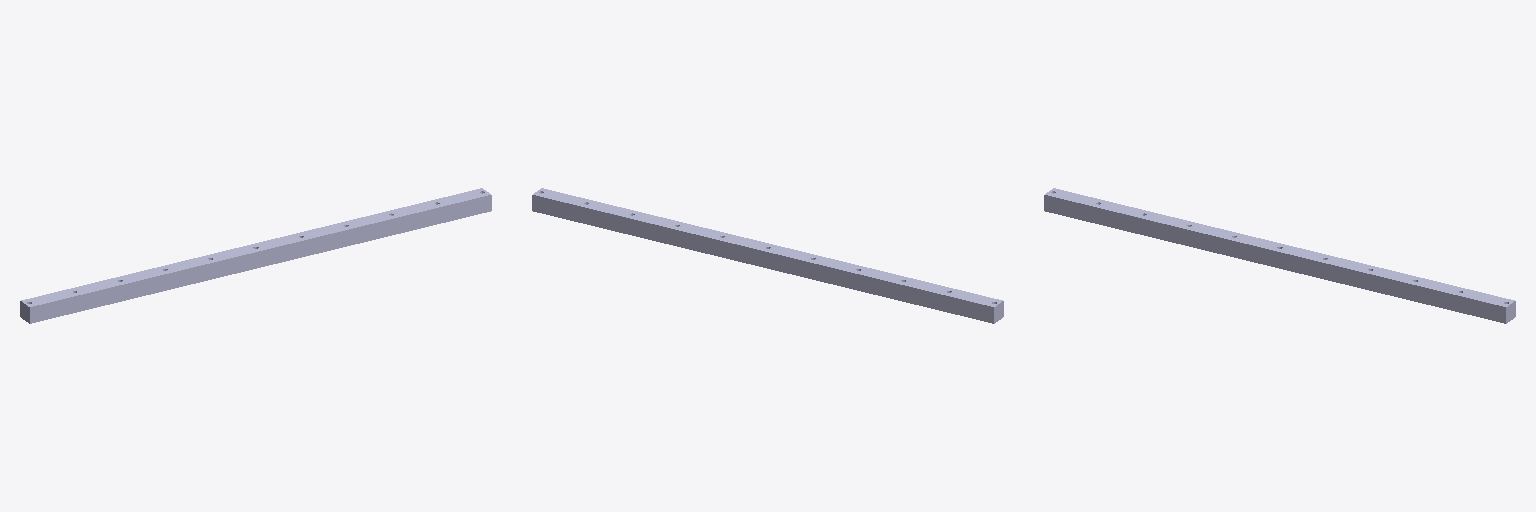
URDF robot description (Assem1):
<?xml version="1.0" encoding="utf-8"?>
<robot name="Assem1" xmlns:ignition="http://gazebosim.org/schema">

  <material name="snake_grey">
    <color rgba="0.792156862745098 0.8 0.9 1" />
  </material>

  <!-- link and joint definitions -->

  <link name="link_1">
    <inertial>
      <origin xyz="-0.05 0 0" rpy="0 0 0" />
      <mass value="0.141502212856218" />
      <inertia
        ixx="2.94169063927569E-05" ixy="0" ixz="0"
        iyy="0.000177066188533302" iyz="0"
        izz="0.000177593059801247" />
    </inertial>
    <visual>
      <origin xyz="0 0 0" rpy="1.5707963 0 0" />
      <geometry>
        <mesh filename="package://assem1_description/meshes/link_1.stl" />
      </geometry>
      <material name="snake_grey" />
    </visual>
    <collision>
      <origin xyz="0 0 0" rpy="1.5707963 0 0" />
      <geometry>
        <mesh filename="package://assem1_description/meshes/link_1.stl" />
      </geometry>
    </collision>
  </link>

  <joint name="joint_12" type="continuous">
    <origin xyz="-0.1 0 0" rpy="0 0 0" />
    <parent link="link_1" />
    <child link="link_2" />
    <axis xyz="0 0 1" />
  </joint>

  <link name="link_2">
    <inertial>
      <origin xyz="-0.05 0 0" rpy="0 0 0" />
      <mass value="0.283004425712436" />
      <inertia
        ixx="5.88338127855139E-05" ixy="0" ixz="0"
        iyy="0.000354132377066603" iyz="0"
        izz="0.000355186119602495" />
    </inertial>
    <visual>
      <origin xyz="0 0 0" rpy="1.5707963 0 0" />
      <geometry>
        <mesh filename="package://assem1_description/meshes/link_1.stl" />
      </geometry>
      <material name="snake_grey" />
    </visual>
    <collision>
      <origin xyz="0 0 0" rpy="1.5707963 0 0" />
      <geometry>
        <mesh filename="package://assem1_description/meshes/link_1.stl" />
      </geometry>
    </collision>
  </link>

  <joint name="joint_23" type="continuous">
    <origin xyz="-0.1 0 0" rpy="0 0 0" />
    <parent link="link_2" />
    <child link="link_3" />
    <axis xyz="0 0 1" />
  </joint>

  <link name="link_3">
    <inertial>
      <origin xyz="-0.05 0 0" rpy="0 0 0" />
      <mass value="0.283004425712436" />
      <inertia
        ixx="5.88338127855139E-05" ixy="0" ixz="0"
        iyy="0.000354132377066603" iyz="0"
        izz="0.000355186119602495" />
    </inertial>
    <visual>
      <origin xyz="0 0 0" rpy="1.5707963 0 0" />
      <geometry>
        <mesh filename="package://assem1_description/meshes/link_1.stl" />
      </geometry>
      <material name="snake_grey" />
    </visual>
    <collision>
      <origin xyz="0 0 0" rpy="1.5707963 0 0" />
      <geometry>
        <mesh filename="package://assem1_description/meshes/link_1.stl" />
      </geometry>
    </collision>
  </link>

  <joint name="joint_34" type="continuous">
    <origin xyz="-0.1 0 0" rpy="0 0 0" />
    <parent link="link_3" />
    <child link="link_4" />
    <axis xyz="0 0 1" />
  </joint>

  <link name="link_4">
    <inertial>
      <origin xyz="-0.05 0 0" rpy="0 0 0" />
      <mass value="0.283004425712436" />
      <inertia
        ixx="5.88338127855139E-05" ixy="0" ixz="0"
        iyy="0.000354132377066603" iyz="0"
        izz="0.000355186119602495" />
    </inertial>
    <visual>
      <origin xyz="0 0 0" rpy="1.5707963 0 0" />
      <geometry>
        <mesh filename="package://assem1_description/meshes/link_1.stl" />
      </geometry>
      <material name="snake_grey" />
    </visual>
    <collision>
      <origin xyz="0 0 0" rpy="1.5707963 0 0" />
      <geometry>
        <mesh filename="package://assem1_description/meshes/link_1.stl" />
      </geometry>
    </collision>
  </link>

  <joint name="joint_45" type="continuous">
    <origin xyz="-0.1 0 0" rpy="0 0 0" />
    <parent link="link_4" />
    <child link="link_5" />
    <axis xyz="0 0 1" />
  </joint>

  <link name="link_5">
    <inertial>
      <origin xyz="-0.05 0 0" rpy="0 0 0" />
      <mass value="0.283004425712436" />
      <inertia
        ixx="5.88338127855139E-05" ixy="0" ixz="0"
        iyy="0.000354132377066603" iyz="0"
        izz="0.000355186119602495" />
    </inertial>
    <visual>
      <origin xyz="0 0 0" rpy="1.5707963 0 0" />
      <geometry>
        <mesh filename="package://assem1_description/meshes/link_1.stl" />
      </geometry>
      <material name="snake_grey" />
    </visual>
    <collision>
      <origin xyz="0 0 0" rpy="1.5707963 0 0" />
      <geometry>
        <mesh filename="package://assem1_description/meshes/link_1.stl" />
      </geometry>
    </collision>
  </link>

  <joint name="joint_56" type="continuous">
    <origin xyz="-0.1 0 0" rpy="0 0 0" />
    <parent link="link_5" />
    <child link="link_6" />
    <axis xyz="0 0 1" />
  </joint>

  <link name="link_6">
    <inertial>
      <origin xyz="-0.05 0 0" rpy="0 0 0" />
      <mass value="0.283004425712436" />
      <inertia
        ixx="5.88338127855139E-05" ixy="0" ixz="0"
        iyy="0.000354132377066603" iyz="0"
        izz="0.000355186119602495" />
    </inertial>
    <visual>
      <origin xyz="0 0 0" rpy="1.5707963 0 0" />
      <geometry>
        <mesh filename="package://assem1_description/meshes/link_1.stl" />
      </geometry>
      <material name="snake_grey" />
    </visual>
    <collision>
      <origin xyz="0 0 0" rpy="1.5707963 0 0" />
      <geometry>
        <mesh filename="package://assem1_description/meshes/link_1.stl" />
      </geometry>
    </collision>
  </link>

  <joint name="joint_67" type="continuous">
    <origin xyz="-0.1 0 0" rpy="0 0 0" />
    <parent link="link_6" />
    <child link="link_7" />
    <axis xyz="0 0 1" />
  </joint>

  <link name="link_7">
    <inertial>
      <origin xyz="-0.05 0 0" rpy="0 0 0" />
      <mass value="0.283004425712436" />
      <inertia
        ixx="5.88338127855139E-05" ixy="0" ixz="0"
        iyy="0.000354132377066603" iyz="0"
        izz="0.000355186119602495" />
    </inertial>
    <visual>
      <origin xyz="0 0 0" rpy="1.5707963 0 0" />
      <geometry>
        <mesh filename="package://assem1_description/meshes/link_1.stl" />
      </geometry>
      <material name="snake_grey" />
    </visual>
    <collision>
      <origin xyz="0 0 0" rpy="1.5707963 0 0" />
      <geometry>
        <mesh filename="package://assem1_description/meshes/link_1.stl" />
      </geometry>
    </collision>
  </link>

  <joint name="joint_78" type="continuous">
    <origin xyz="-0.1 0 0" rpy="0 0 0" />
    <parent link="link_7" />
    <child link="link_8" />
    <axis xyz="0 0 1" />
  </joint>

  <link name="link_8">
    <inertial>
      <origin xyz="-0.05 0 0" rpy="0 0 0" />
      <mass value="0.283004425712436" />
      <inertia
        ixx="5.88338127855139E-05" ixy="0" ixz="0"
        iyy="0.000354132377066603" iyz="0"
        izz="0.000355186119602495" />
    </inertial>
    <visual>
      <origin xyz="0 0 0" rpy="1.5707963 0 0" />
      <geometry>
        <mesh filename="package://assem1_description/meshes/link_1.stl" />
      </geometry>
      <material name="snake_grey" />
    </visual>
    <collision>
      <origin xyz="0 0 0" rpy="1.5707963 0 0" />
      <geometry>
        <mesh filename="package://assem1_description/meshes/link_1.stl" />
      </geometry>
    </collision>
  </link>

  <joint name="joint_89" type="continuous">
    <origin xyz="-0.1 0 0" rpy="0 0 0" />
    <parent link="link_8" />
    <child link="link_9" />
    <axis xyz="0 0 1" />
  </joint>

  <link name="link_9">
    <inertial>
      <origin xyz="-0.05 0 0" rpy="0 0 0" />
      <mass value="0.283004425712436" />
      <inertia
        ixx="5.88338127855139E-05" ixy="0" ixz="0"
        iyy="0.000354132377066603" iyz="0"
        izz="0.000355186119602495" />
    </inertial>
    <visual>
      <origin xyz="0 0 0" rpy="1.5707963 0 0" />
      <geometry>
        <mesh filename="package://assem1_description/meshes/link_1.stl" />
      </geometry>
      <material name="snake_grey" />
    </visual>
    <collision>
      <origin xyz="0 0 0" rpy="1.5707963 0 0" />
      <geometry>
        <mesh filename="package://assem1_description/meshes/link_1.stl" />
      </geometry>
    </collision>
  </link>

  <joint name="joint_910" type="continuous">
    <origin xyz="-0.1 0 0" rpy="0 0 0" />
    <parent link="link_9" />
    <child link="link_10" />
    <axis xyz="0 0 1" />
  </joint>

  <link name="link_10">
    <inertial>
      <origin xyz="-0.05 0 0" rpy="0 0 0" />
      <mass value="0.283004425712436" />
      <inertia
        ixx="5.88338127855139E-05" ixy="0" ixz="0"
        iyy="0.000354132377066603" iyz="0"
        izz="0.000355186119602495" />
    </inertial>
    <visual>
      <origin xyz="0 0 0" rpy="1.5707963 0 0" />
      <geometry>
        <mesh filename="package://assem1_description/meshes/link_1.stl" />
      </geometry>
      <material name="snake_grey" />
    </visual>
    <collision>
      <origin xyz="0 0 0" rpy="1.5707963 0 0" />
      <geometry>
        <mesh filename="package://assem1_description/meshes/link_1.stl" />
      </geometry>
    </collision>
  </link>

  <!-- ==================== GAZEBO CONTROLLERS ==================== -->

  <gazebo>
    <plugin filename="ignition-gazebo-joint-position-controller-system"
            name="ignition::gazebo::systems::JointPositionController">
      <joint_name>joint_12</joint_name>
      <topic>/assem1/joint_12/cmd_pos</topic>
      <p_gain>50</p_gain>
      <i_gain>0.1</i_gain>
      <d_gain>1.0</d_gain>
    </plugin>
  </gazebo>

  <gazebo>
    <plugin filename="ignition-gazebo-joint-position-controller-system"
            name="ignition::gazebo::systems::JointPositionController">
      <joint_name>joint_23</joint_name>
      <topic>/assem1/joint_23/cmd_pos</topic>
      <p_gain>50</p_gain>
      <i_gain>0.1</i_gain>
      <d_gain>1.0</d_gain>
    </plugin>
  </gazebo>

  <gazebo>
    <plugin filename="ignition-gazebo-joint-position-controller-system"
            name="ignition::gazebo::systems::JointPositionController">
      <joint_name>joint_34</joint_name>
      <topic>/assem1/joint_34/cmd_pos</topic>
      <p_gain>50</p_gain>
      <i_gain>0.1</i_gain>
      <d_gain>1.0</d_gain>
    </plugin>
  </gazebo>

  <gazebo>
    <plugin filename="ignition-gazebo-joint-position-controller-system"
            name="ignition::gazebo::systems::JointPositionController">
      <joint_name>joint_45</joint_name>
      <topic>/assem1/joint_45/cmd_pos</topic>
      <p_gain>50</p_gain>
      <i_gain>0.1</i_gain>
      <d_gain>1.0</d_gain>
    </plugin>
  </gazebo>

  <gazebo>
    <plugin filename="ignition-gazebo-joint-position-controller-system"
            name="ignition::gazebo::systems::JointPositionController">
      <joint_name>joint_56</joint_name>
      <topic>/assem1/joint_56/cmd_pos</topic>
      <p_gain>50</p_gain>
      <i_gain>0.1</i_gain>
      <d_gain>1.0</d_gain>
    </plugin>
  </gazebo>

  <gazebo>
    <plugin filename="ignition-gazebo-joint-position-controller-system"
            name="ignition::gazebo::systems::JointPositionController">
      <joint_name>joint_67</joint_name>
      <topic>/assem1/joint_67/cmd_pos</topic>
      <p_gain>50</p_gain>
      <i_gain>0.1</i_gain>
      <d_gain>1.0</d_gain>
    </plugin>
  </gazebo>

  <gazebo>
    <plugin filename="ignition-gazebo-joint-position-controller-system"
            name="ignition::gazebo::systems::JointPositionController">
      <joint_name>joint_78</joint_name>
      <topic>/assem1/joint_78/cmd_pos</topic>
      <p_gain>50</p_gain>
      <i_gain>0.1</i_gain>
      <d_gain>1.0</d_gain>
    </plugin>
  </gazebo>

  <gazebo>
    <plugin filename="ignition-gazebo-joint-position-controller-system"
            name="ignition::gazebo::systems::JointPositionController">
      <joint_name>joint_89</joint_name>
      <topic>/assem1/joint_89/cmd_pos</topic>
      <p_gain>50</p_gain>
      <i_gain>0.1</i_gain>
      <d_gain>1.0</d_gain>
    </plugin>
  </gazebo>

  <gazebo>
    <plugin filename="ignition-gazebo-joint-position-controller-system"
            name="ignition::gazebo::systems::JointPositionController">
      <joint_name>joint_910</joint_name>
      <topic>/assem1/joint_910/cmd_pos</topic>
      <p_gain>50</p_gain>
      <i_gain>0.1</i_gain>
      <d_gain>1.0</d_gain>
    </plugin>
  </gazebo>

  <!-- friction stuff(probably doesnt work idk) -->

  <gazebo reference="link_1">
    <collision>
      <surface>
        <friction>
          <ode>
            <mu>0.15</mu>
            <mu2>0.4</mu2>
            <fdir1 ignition:expressed_in="link_1">1 0 0</fdir1>
          </ode>
        </friction>
      </surface>
    </collision>
  </gazebo>

  <gazebo reference="link_2">
    <collision>
      <surface>
        <friction>
          <ode>
            <mu>0.15</mu>
            <mu2>0.4</mu2>
            <fdir1 ignition:expressed_in="link_2">1 0 0</fdir1>
          </ode>
        </friction>
      </surface>
    </collision>
  </gazebo>

  <gazebo reference="link_3">
    <collision>
      <surface>
        <friction>
          <ode>
            <mu>0.15</mu>
            <mu2>0.4</mu2>
            <fdir1 ignition:expressed_in="link_3">1 0 0</fdir1>
          </ode>
        </friction>
      </surface>
    </collision>
  </gazebo>

  <gazebo reference="link_4">
    <collision>
      <surface>
        <friction>
          <ode>
            <mu>0.15</mu>
            <mu2>0.4</mu2>
            <fdir1 ignition:expressed_in="link_4">1 0 0</fdir1>
          </ode>
        </friction>
      </surface>
    </collision>
  </gazebo>

  <gazebo reference="link_5">
    <collision>
      <surface>
        <friction>
          <ode>
            <mu>0.15</mu>
            <mu2>0.4</mu2>
            <fdir1 ignition:expressed_in="link_5">1 0 0</fdir1>
          </ode>
        </friction>
      </surface>
    </collision>
  </gazebo>

  <gazebo reference="link_6">
    <collision>
      <surface>
        <friction>
          <ode>
            <mu>0.15</mu>
            <mu2>0.4</mu2>
            <fdir1 ignition:expressed_in="link_6">1 0 0</fdir1>
          </ode>
        </friction>
      </surface>
    </collision>
  </gazebo>

  <gazebo reference="link_7">
    <collision>
      <surface>
        <friction>
          <ode>
            <mu>0.15</mu>
            <mu2>0.4</mu2>
            <fdir1 ignition:expressed_in="link_7">1 0 0</fdir1>
          </ode>
        </friction>
      </surface>
    </collision>
  </gazebo>

  <gazebo reference="link_8">
    <collision>
      <surface>
        <friction>
          <ode>
            <mu>0.15</mu>
            <mu2>0.4</mu2>
            <fdir1 ignition:expressed_in="link_8">1 0 0</fdir1>
          </ode>
        </friction>
      </surface>
    </collision>
  </gazebo>

  <gazebo reference="link_9">
    <collision>
      <surface>
        <friction>
          <ode>
            <mu>0.15</mu>
            <mu2>0.4</mu2>
            <fdir1 ignition:expressed_in="link_9">1 0 0</fdir1>
          </ode>
        </friction>
      </surface>
    </collision>
  </gazebo>

  <gazebo reference="link_10">
    <collision>
      <surface>
        <friction>
          <ode>
            <mu>0.15</mu>
            <mu2>0.4</mu2>
            <fdir1 ignition:expressed_in="link_10">1 0 0</fdir1>
          </ode>
        </friction>
      </surface>
    </collision>
  </gazebo>

</robot>

--- Facts derived from the render (not from the file) ---
The picture shows the robot from 3 angles, left to right: view 1: azimuth 30°, elevation 25°; view 2: azimuth 150°, elevation 25°; view 3: azimuth 330°, elevation 25°; orthographic projection.
Model Assem1 with 10 links and 9 joints (9 continuous), rooted at link_1, posed every joint at zero.
Visible links, largest first — view 1: link_1, link_10, link_8, link_6, link_3, link_9, link_5, link_2, link_4, link_7; view 2: link_10, link_1, link_3, link_8, link_5, link_7, link_4, link_9, link_6, link_2; view 3: link_1, link_8, link_10, link_6, link_4, link_3, link_9, link_5, link_7, link_2.
Boxes of the visible links, x1,y1,x2,y2 form: link_1: (428, 188, 491, 223); link_10: (20, 290, 83, 323); link_8: (111, 266, 174, 301); link_6: (202, 245, 264, 279); link_3: (338, 210, 400, 245); link_9: (66, 278, 127, 312); link_5: (247, 234, 309, 265); link_2: (386, 199, 441, 234); link_4: (292, 223, 349, 257); link_7: (157, 257, 219, 287); link_10: (940, 288, 1003, 323); link_1: (532, 188, 595, 223); link_3: (623, 210, 685, 245); link_8: (849, 268, 912, 301); link_5: (714, 234, 776, 268); link_7: (804, 254, 866, 287); link_4: (669, 223, 731, 257); link_9: (896, 278, 957, 311); link_6: (762, 246, 819, 276); link_2: (578, 199, 639, 232); link_1: (1452, 288, 1515, 323); link_8: (1135, 210, 1197, 245); link_10: (1044, 188, 1107, 223); link_6: (1226, 234, 1288, 268); link_4: (1316, 257, 1378, 290); link_3: (1362, 266, 1424, 301); link_9: (1090, 199, 1151, 232); link_5: (1274, 244, 1333, 276); link_7: (1180, 223, 1243, 256); link_2: (1408, 277, 1469, 312).
Size in the robot's own frame: 1.02 by 0.035 by 0.035 metres.
10 mesh visuals loaded from 1 distinct referenced files (1 binary STL).
